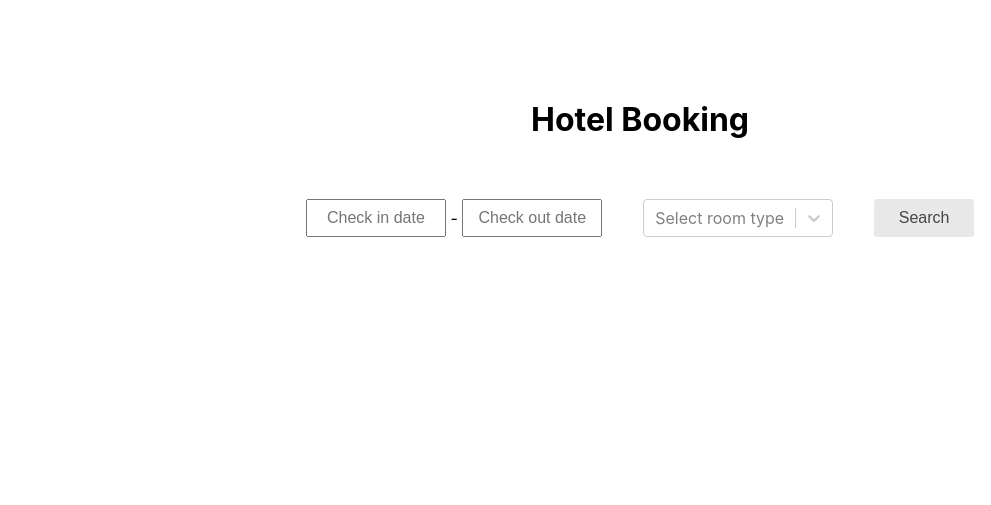
Test case: prevents invalid check out date
Type "28/08/2022" into the field with placeholder "Check in date".
click(376, 218); type("28/08/2022")  # box [306, 199, 446, 237]
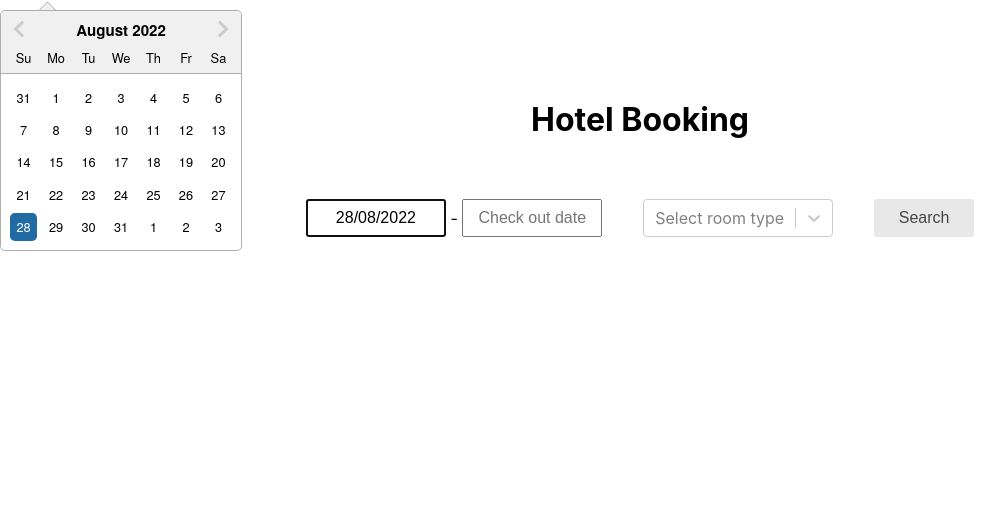
Type "27/08/2022" into the field with placeholder "Check out date".
click(532, 218); type("27/08/2022")  # box [462, 199, 602, 237]
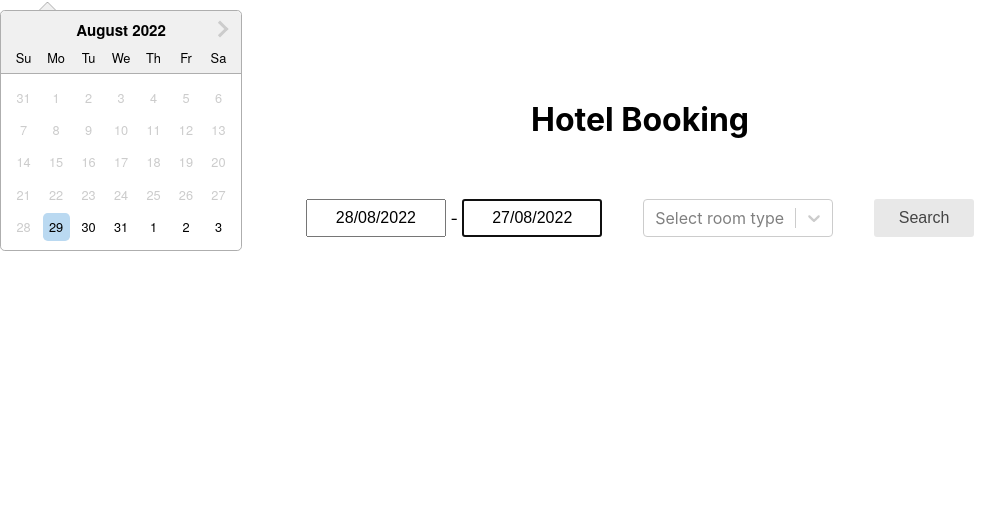
Click the element showing "Select room type".
click(738, 218)  # box [643, 199, 833, 237]
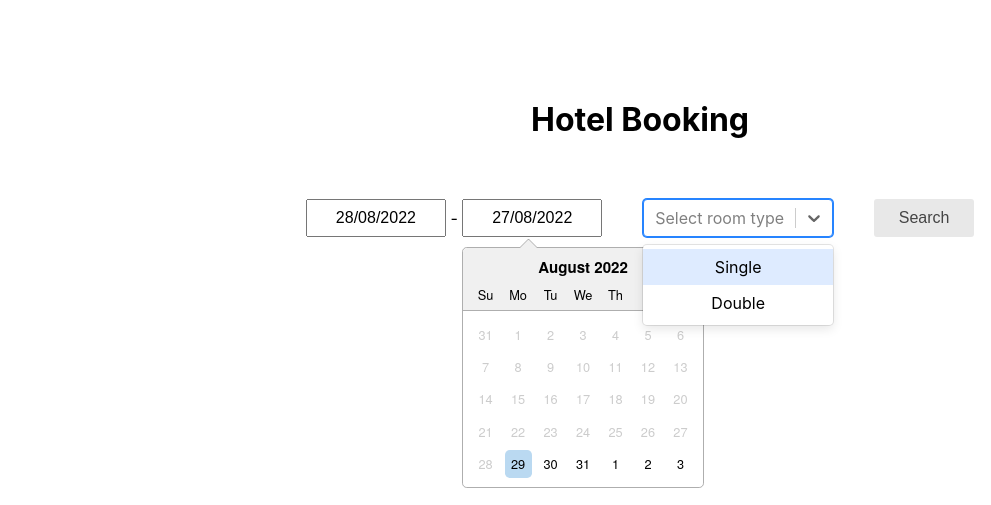
Click the option "Single".
click(738, 267)  # box [643, 249, 833, 285]
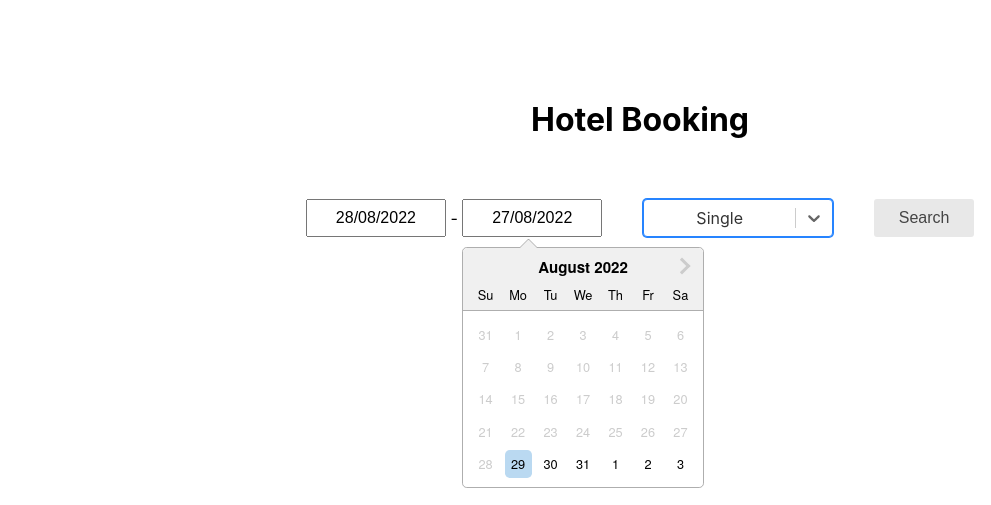
Click the button "Search".
click(924, 218)  # box [874, 199, 974, 237]
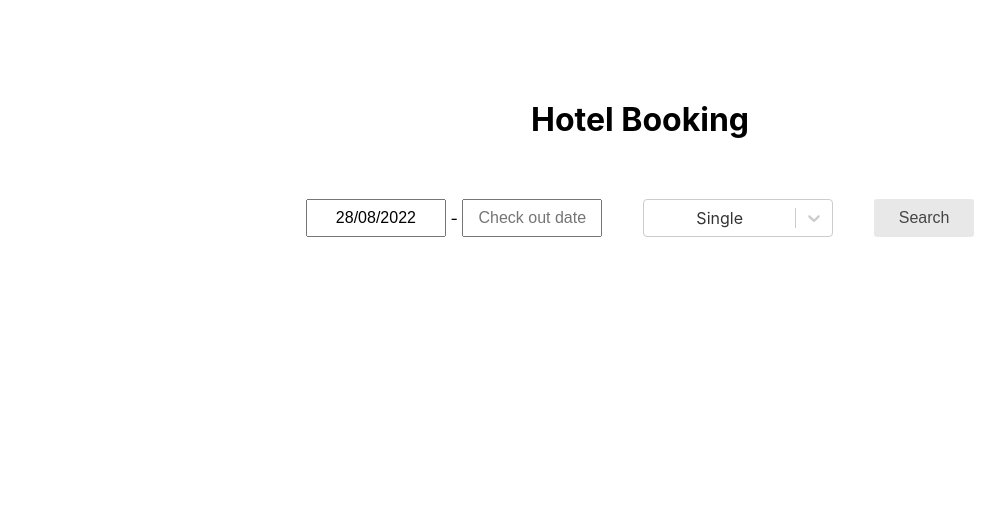
Now the list is gone
